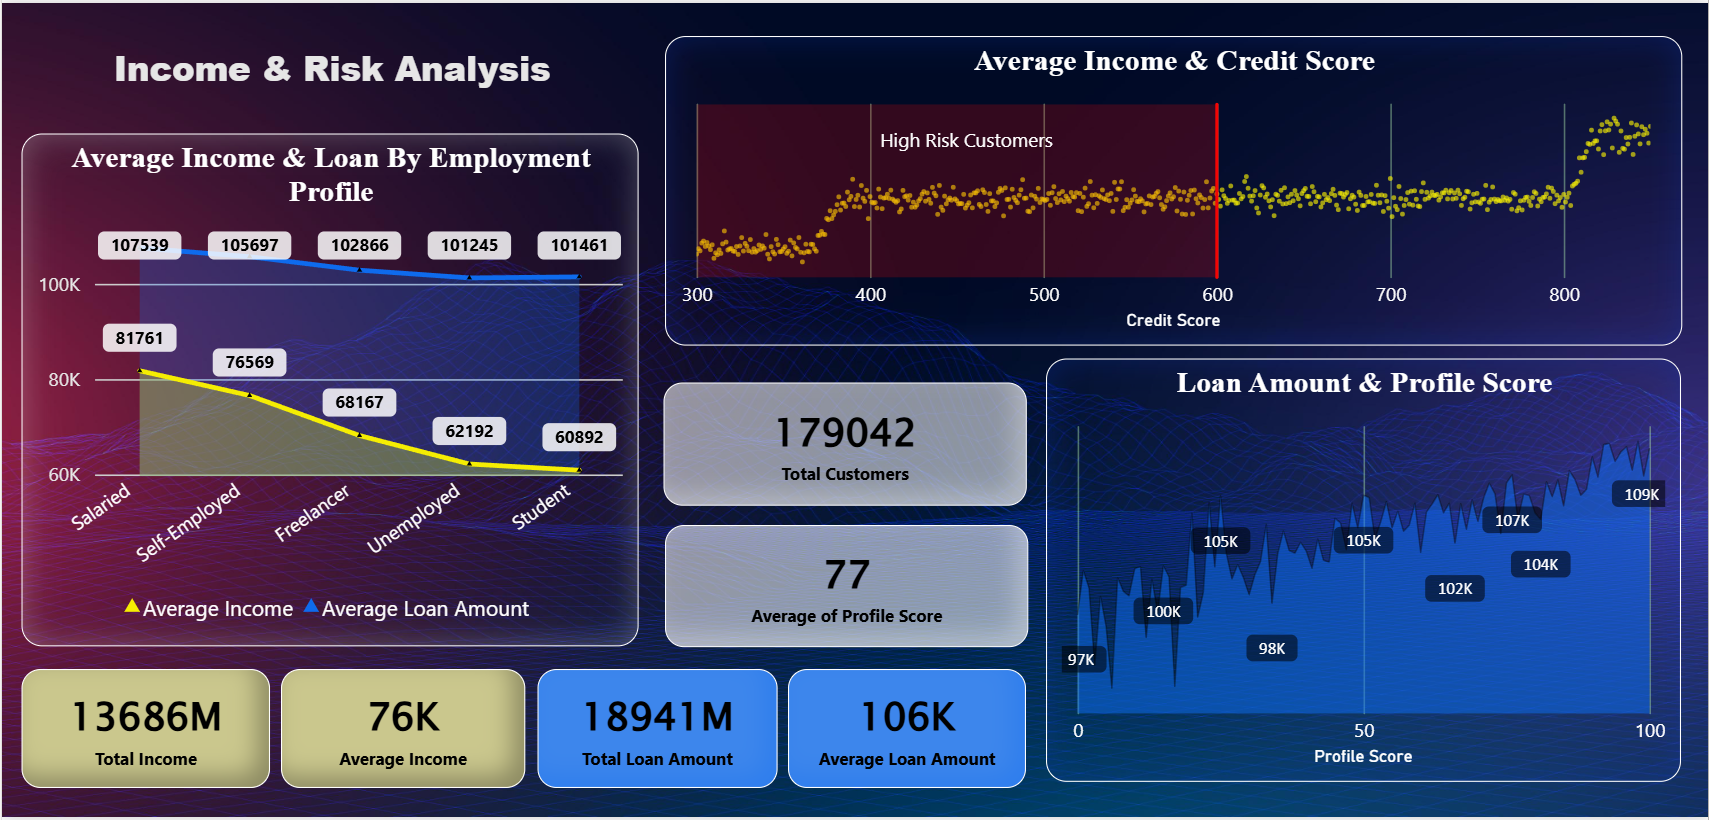

What the dashboard file says about the page in this screenshot:
{"tool":"powerbi","page":{"name":"Income & Risk","canvas":[1080,515],"ordinal":2},"visuals":[{"type":"textbox","box":[47.3,20.4,323.2,48.5],"z":0},{"type":"scatterChart","title":"Average Income  & Credit Score","fields":{"Y":["credit_data.Income"],"X":["credit_data.Credit Score"]},"box":[419.4,20.7,643.9,196.1],"z":1000},{"type":"stackedAreaChart","title":"Loan Amount & Profile Score","fields":{"Category":["credit_data.Profile Score"],"Y":["Avg(credit_data.Loan Amount)"]},"box":[661.3,225.5,402,268],"z":2000},{"type":"textbox","box":[540.4,70.8,140.5,33.8],"z":3000},{"type":"card","fields":{"Values":["Sum(credit_data.Loan Amount)"]},"box":[339.4,421.5,151.8,75.4],"z":4000},{"type":"areaChart","title":"Average Income & Loan By Employment Profile","fields":{"Category":["credit_data.Employment Profile"],"Y":["Avg(credit_data.Income)","Avg(credit_data.Loan Amount)"]},"box":[12.8,83,390.9,324.5],"z":5000},{"type":"card","fields":{"Values":["Avg(credit_data.Loan Amount)"]},"box":[497.9,421.5,150.8,75.4],"z":6000},{"type":"card","fields":{"Values":["credit_data.Total Customers"]},"box":[418.8,225.1,229.8,86.4],"z":7000},{"type":"card","fields":{"Values":["Avg(credit_data.Income)"]},"box":[176.9,421.5,154.7,75.4],"z":8000},{"type":"card","fields":{"Values":["Sum(credit_data.Income)"]},"box":[12.6,421.5,157.6,75.4],"z":9000},{"type":"card","fields":{"Values":["Avg(credit_data.Profile Score)"]},"box":[419.7,321,229.8,87.4],"z":10000}]}

Visuals, with their boxes in screenshot pixels (x1, y1, x2, y2), scaled from the page's 1080x515 canvas onto the 1711x820 screenshot:
textbox: bbox=(75, 32, 587, 110)
"Average Income  & Credit Score" scatterChart: bbox=(664, 33, 1685, 345)
"Loan Amount & Profile Score" stackedAreaChart: bbox=(1048, 359, 1685, 786)
textbox: bbox=(856, 113, 1079, 167)
card - Sum(credit_data.Loan Amount): bbox=(538, 671, 778, 791)
"Average Income & Loan By Employment Profile" areaChart: bbox=(20, 132, 640, 649)
card - Avg(credit_data.Loan Amount): bbox=(789, 671, 1028, 791)
card - credit_data.Total Customers: bbox=(663, 358, 1028, 496)
card - Avg(credit_data.Income): bbox=(280, 671, 525, 791)
card - Sum(credit_data.Income): bbox=(20, 671, 270, 791)
card - Avg(credit_data.Profile Score): bbox=(665, 511, 1029, 650)
